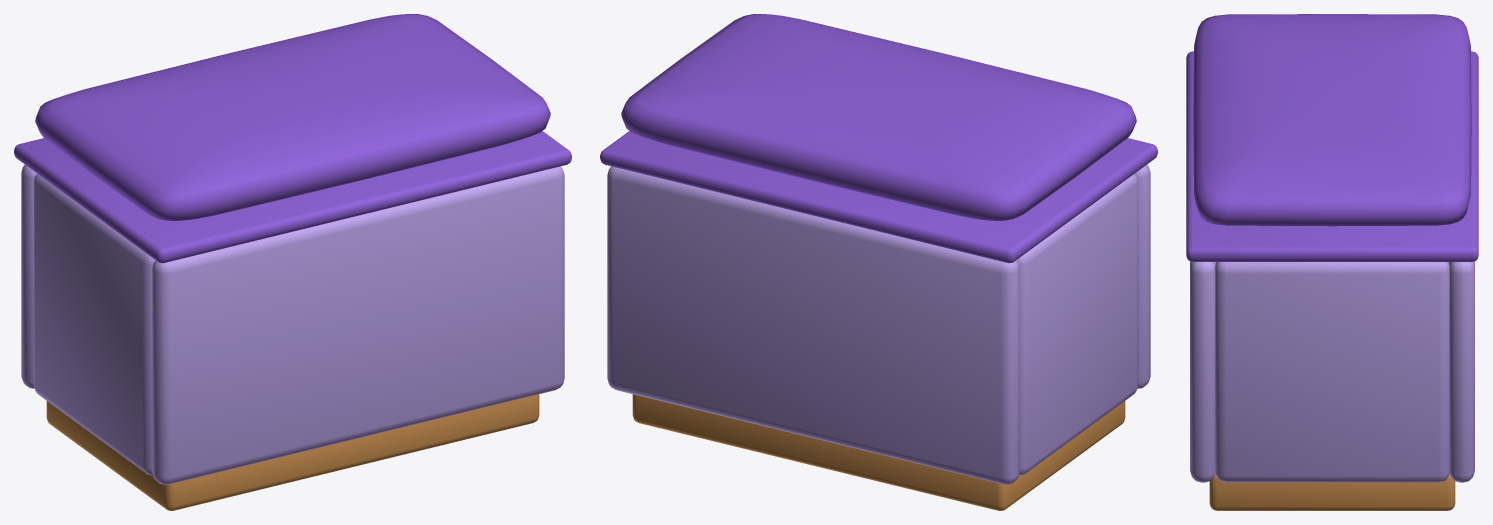
The model's file is pufe_bau_lilas.glb.
3 views of the same model, side by side, from view 1: azimuth 30°, elevation 25°; view 2: azimuth 150°, elevation 25°; view 3: azimuth 270°, elevation 25° (orthographic).
Parts seen in each view (by area): view 1: pufe_bau_lilas, tampa; view 2: pufe_bau_lilas, tampa; view 3: tampa, pufe_bau_lilas.
Part boxes in pixels (x1,y1,x2,y2): pufe_bau_lilas: (21,165,564,510); tampa: (14,14,571,263); pufe_bau_lilas: (607,165,1150,510); tampa: (600,14,1157,263); tampa: (1186,14,1478,261); pufe_bau_lilas: (1190,261,1474,510).
Bounding box in the file's own units: 0.732 × 0.567 × 0.452.
1 material, 1 textured.
